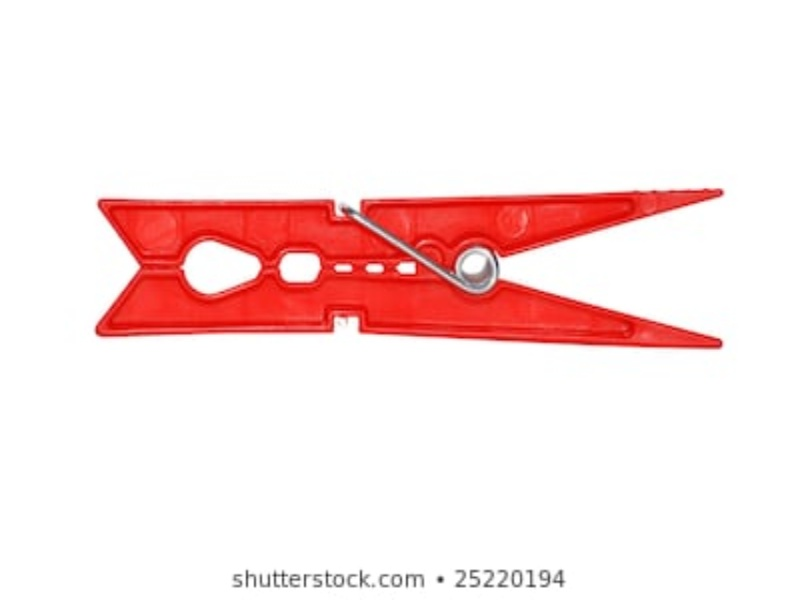plastic-peg: (86, 185, 737, 350)
